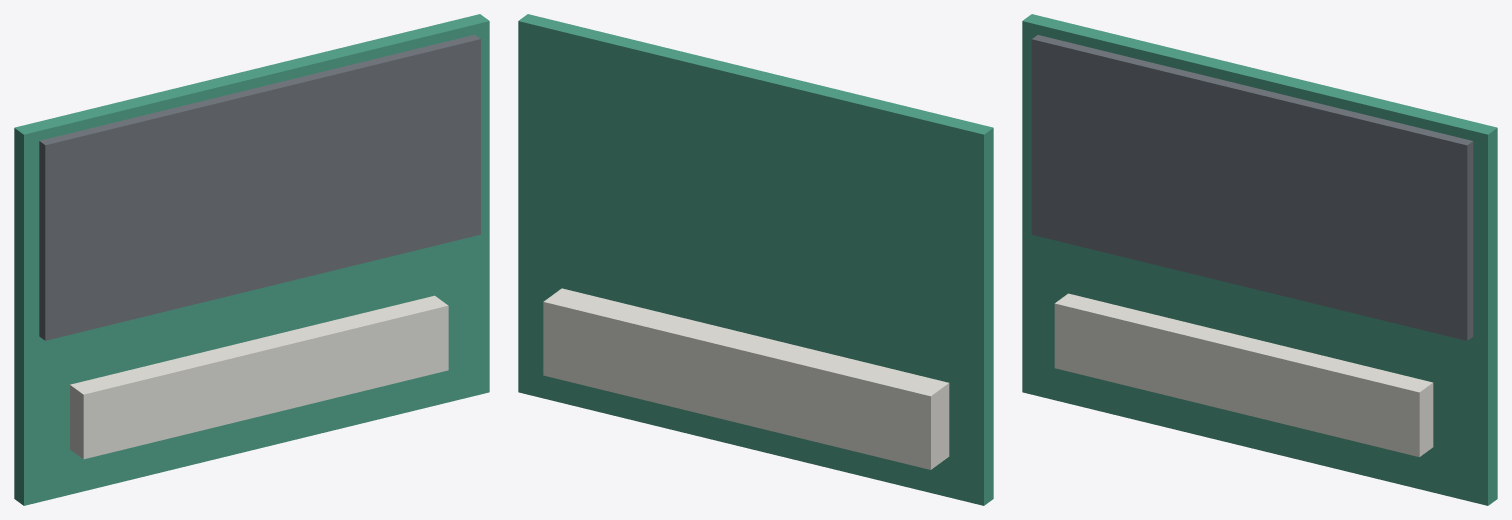
File: Option_A_FE14_LDOA24_ASIC15_part_5.glb
3 renders of one model, left to right at view 1: azimuth 30°, elevation 25°; view 2: azimuth 150°, elevation 25°; view 3: azimuth 330°, elevation 25°, orthographic.
Parts seen in each view (by area): view 1: ic, board, conn; view 2: board, conn; view 3: ic, board, conn.
Boxes of the visible parts, box(x1,y1,x2,y2) form: ic: box(39, 34, 480, 340); board: box(14, 14, 489, 505); conn: box(70, 295, 448, 459); board: box(518, 14, 993, 505); conn: box(543, 288, 949, 469); ic: box(1031, 35, 1473, 340); board: box(1022, 14, 1497, 505); conn: box(1054, 293, 1433, 456).
Bounding box in the file's own units: 22.37 × 17.03 × 3.47.
